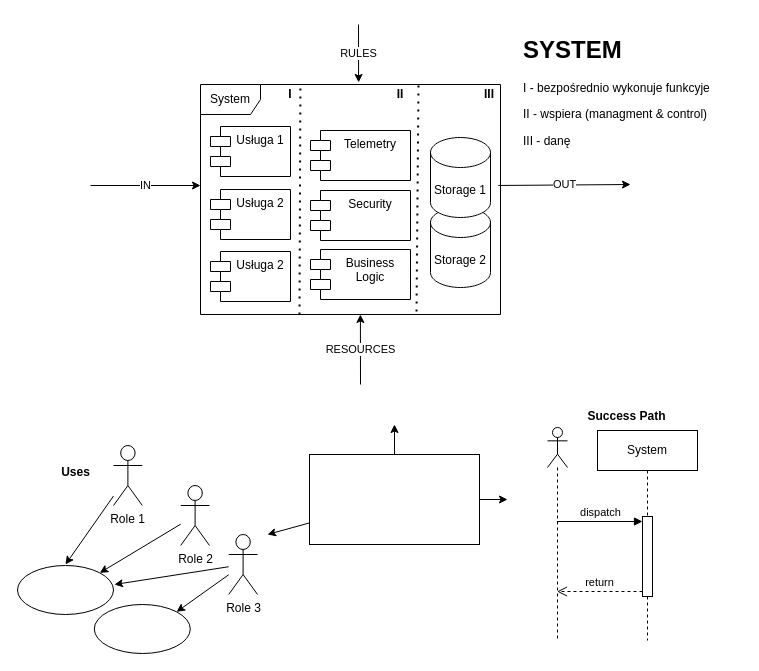
The diagram is 759 pixels wide and 671 high, and some of its shapes have lost their labels. The box of each missing label's shape, as (x1, y1, x2, y2) in pixels:
Three Main Diagramms: - Use Cases, - Components - Sequence Diagramm: (308, 454, 480, 544)
Use 1: (16, 564, 114, 614)
Use 2: (93, 604, 190, 654)
